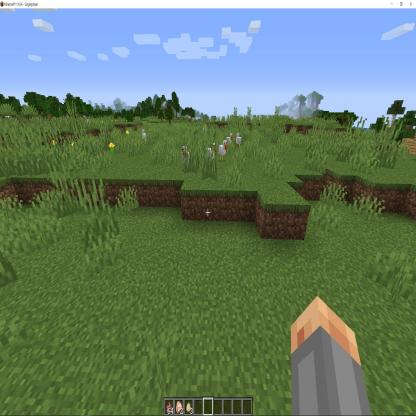minecraft-pigs: (180, 145, 191, 169), (206, 143, 217, 166), (218, 139, 228, 162), (140, 129, 148, 145), (200, 124, 210, 136), (236, 133, 243, 150), (81, 114, 90, 127), (227, 133, 233, 152)
